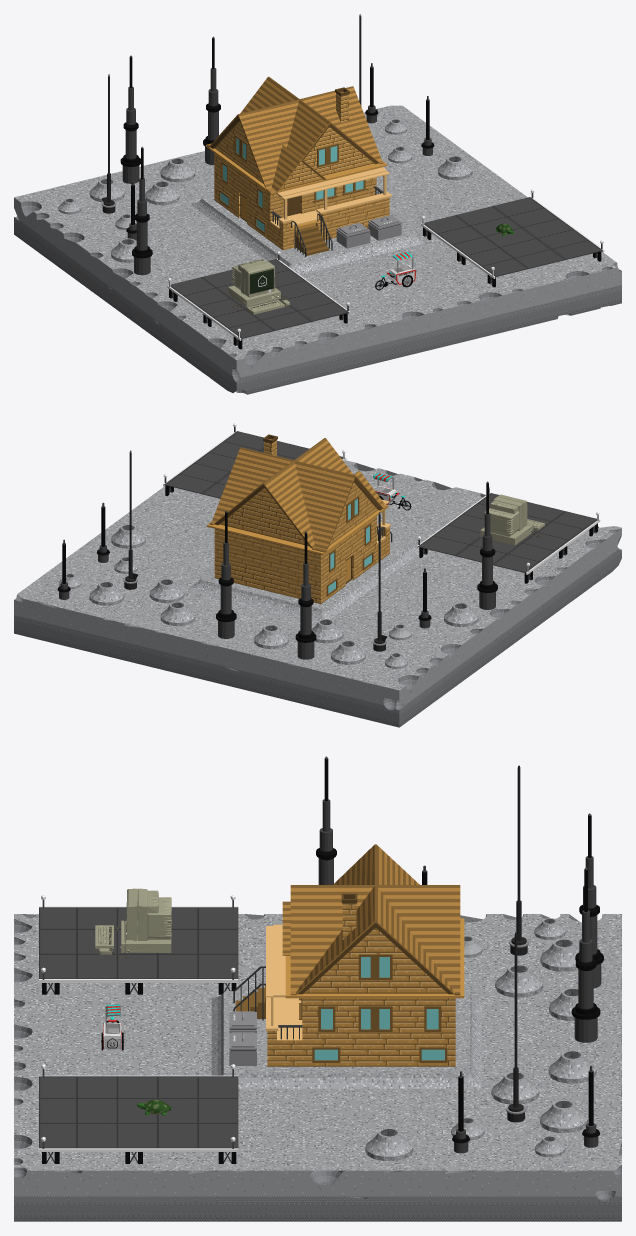
The picture shows the model from 3 angles, top to bottom: view 1: azimuth 30°, elevation 25°; view 2: azimuth 150°, elevation 25°; view 3: azimuth 270°, elevation 25°; orthographic projection. The views are drawn at different scales.
Parts seen in each view (by area): view 1: Cube.027, Cube.508, Cube.026, Cube.025, Cube.028, OBJRANDOM_RETRO_PC, Cylinder.020, Cylinder.021, Cylinder.017, VEHICLES_SNOWBAL_BIKE, Cube.029, Cube.030 (+4 smaller); view 2: Cube.027, Cube.508, Cube.025, Cube.028, Cube.026, OBJRANDOM_RETRO_PC, Cylinder.020, Cylinder.021, Cylinder.017, Cylinder.031, Cylinder.028, Cylinder.029 (+8 smaller); view 3: Cube.027, Cube.508, Cube.026, Cube.025, Cube.028, OBJRANDOM_RETRO_PC, Cylinder.017, Cylinder.020, Cylinder.021, Cylinder.033, Cylinder.031, Cylinder.029 (+10 smaller).
Boxes of the visible parts, box(x1,y1,x2,y2) form: Cube.027: box(14, 105, 621, 394); Cube.508: box(205, 76, 392, 256); Cube.026: box(421, 189, 604, 287); Cube.025: box(167, 251, 350, 349); Cube.028: box(191, 195, 424, 274); OBJRANDOM_RETRO_PC: box(228, 259, 289, 314); Cylinder.020: box(120, 55, 140, 183); Cylinder.021: box(132, 146, 152, 275); Cylinder.017: box(203, 36, 220, 164); VEHICLES_SNOWBAL_BIKE: box(374, 252, 415, 290); Cube.029: box(336, 222, 370, 248); Cube.030: box(368, 215, 401, 240); Cube.027: box(14, 460, 621, 727); Cube.508: box(206, 434, 392, 603); Cube.025: box(417, 485, 600, 583); Cube.028: box(190, 538, 419, 620); Cube.026: box(163, 423, 346, 498); OBJRANDOM_RETRO_PC: box(480, 494, 544, 545); Cylinder.020: box(295, 531, 316, 659); Cylinder.021: box(477, 481, 497, 609); Cylinder.017: box(216, 510, 236, 638); Cylinder.031: box(89, 581, 124, 605); Cylinder.028: box(331, 640, 365, 664); Cylinder.029: box(160, 601, 195, 626); Cube.027: box(14, 914, 621, 1221); Cube.508: box(233, 844, 464, 1066); Cube.026: box(39, 1064, 238, 1163); Cube.025: box(39, 895, 238, 994); Cube.028: box(211, 991, 481, 1088); OBJRANDOM_RETRO_PC: box(95, 888, 171, 958); Cylinder.017: box(571, 867, 600, 1042); Cylinder.020: box(575, 813, 603, 988); Cylinder.021: box(316, 756, 336, 884); Cylinder.033: box(365, 1128, 413, 1160); Cylinder.031: box(540, 1100, 587, 1132); Cylinder.029: box(548, 1050, 596, 1083).
Size of the model in its own units: 4000 by 1803 by 4000.
37 materials, 5 textured.
